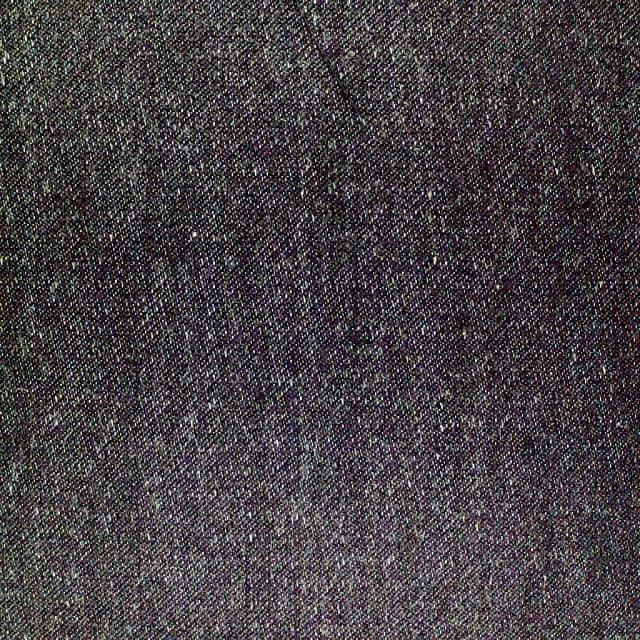defect: (290, 1, 367, 121)
